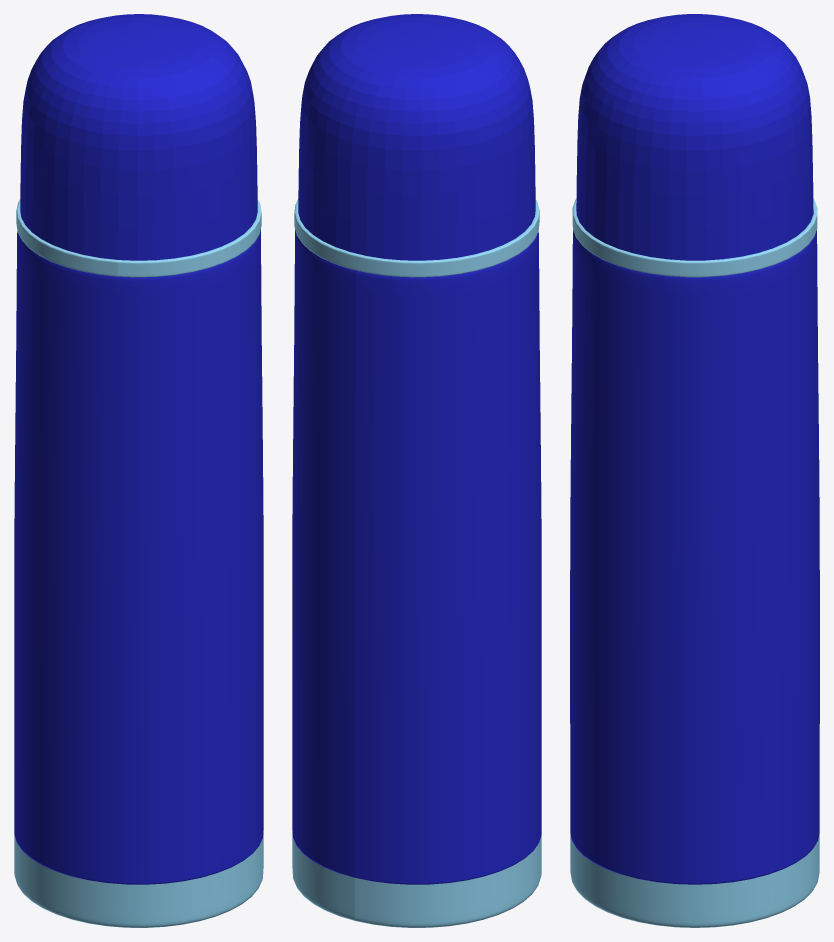
Rendered from 保溫瓶.fbx.
3 views of the same model, side by side, from view 1: azimuth 30°, elevation 25°; view 2: azimuth 150°, elevation 25°; view 3: azimuth 270°, elevation 25° (orthographic).
Parts seen in each view (by area): view 1: 瓶身, 瓶蓋; view 2: 瓶身, 瓶蓋; view 3: 瓶身, 瓶蓋.
Boxes of the visible parts, x1=… form: 瓶身: x1=14, y1=229, x2=263, y2=927; 瓶蓋: x1=16, y1=14, x2=261, y2=277; 瓶身: x1=292, y1=229, x2=541, y2=927; 瓶蓋: x1=294, y1=14, x2=539, y2=277; 瓶身: x1=570, y1=230, x2=819, y2=927; 瓶蓋: x1=572, y1=14, x2=817, y2=277.
Bounding box in the file's own units: 5.93 × 21.92 × 5.93.
